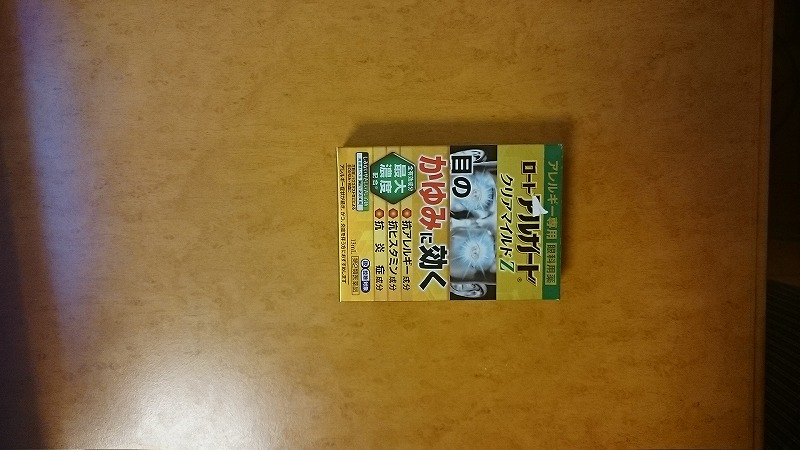C: (327, 139, 568, 311)
